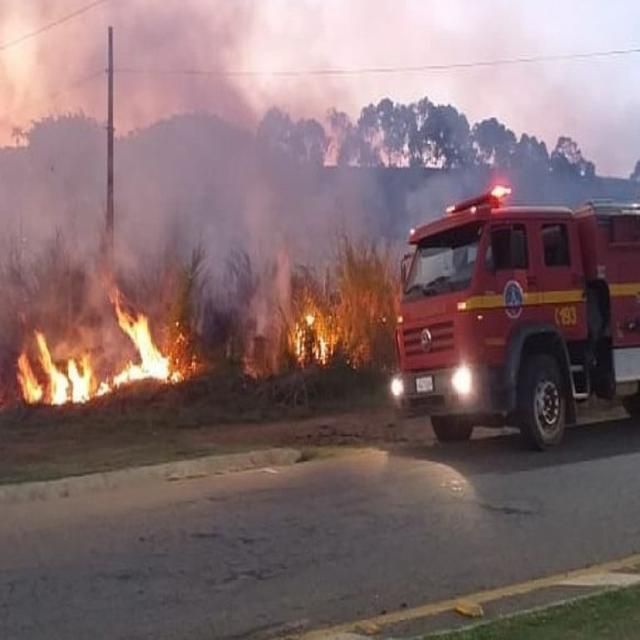Fire: (17, 324, 109, 404), (110, 296, 180, 385), (296, 316, 328, 364)
